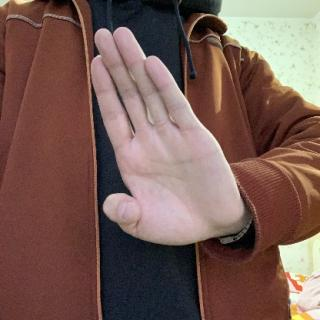KAAF: (84, 22, 244, 256)
